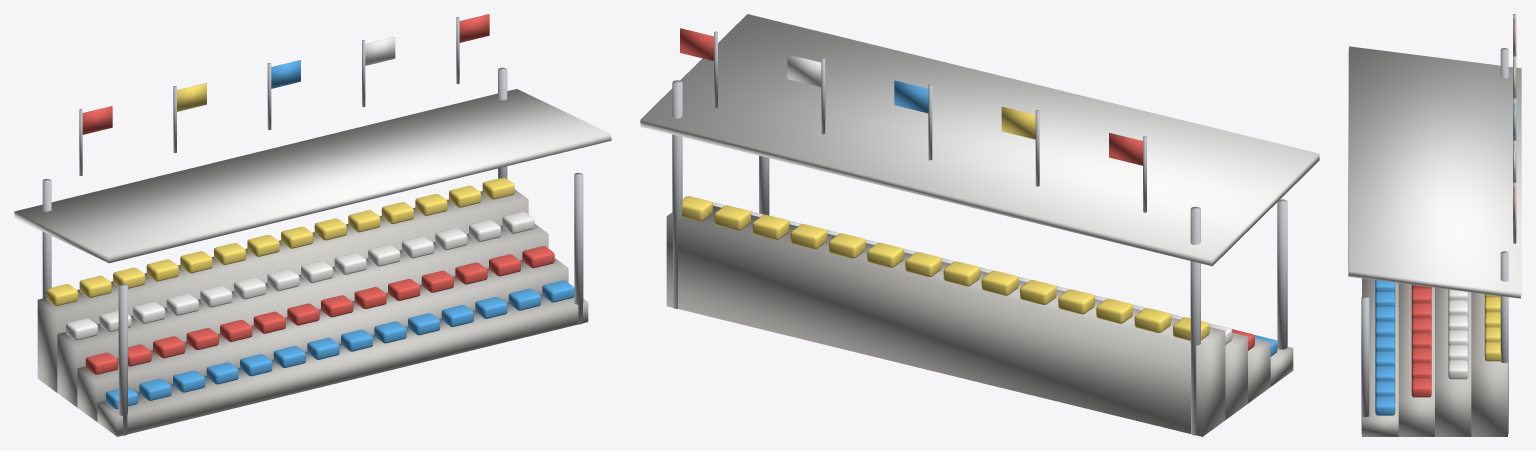
File: Grandstand.fbx
3 views of the same model, side by side, from view 1: azimuth 30°, elevation 25°; view 2: azimuth 150°, elevation 25°; view 3: azimuth 270°, elevation 25° (orthographic). The views are drawn at different scales.
Parts seen in each view (by area): view 1: Concrete.002, White.001, Accent.001, Yellow.002, Blue, Metal.001; view 2: White.001, Concrete.002, Yellow.002, Metal.001, Accent.001, Blue; view 3: White.001, Concrete.002, Metal.001, Blue, Accent.001, Yellow.002.
Part boxes in pixels (<box>): Concrete.002: <box>37,189,588,436</box>; White.001: <box>14,37,611,340</box>; Accent.001: <box>82,14,554,374</box>; Yellow.002: <box>46,83,514,305</box>; Blue: <box>105,60,574,408</box>; Metal.001: <box>42,17,583,435</box>; White.001: <box>640,14,1319,344</box>; Concrete.002: <box>666,205,1293,436</box>; Yellow.002: <box>682,106,1209,340</box>; Metal.001: <box>672,31,1287,435</box>; Accent.001: <box>680,28,1254,350</box>; Blue: <box>894,80,1277,356</box>; White.001: <box>1348,46,1521,379</box>; Concrete.002: <box>1362,278,1507,436</box>; Metal.001: <box>1361,14,1516,433</box>; Blue: <box>1375,103,1514,415</box>; Accent.001: <box>1411,19,1514,397</box>; Yellow.002: <box>1484,61,1514,361</box>.
Size of the model in its own units: 32 by 15.5 by 10.45.
